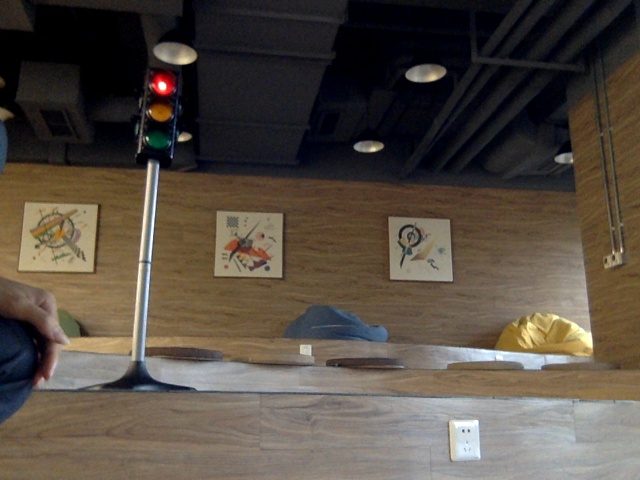red: (142, 72, 177, 153)
